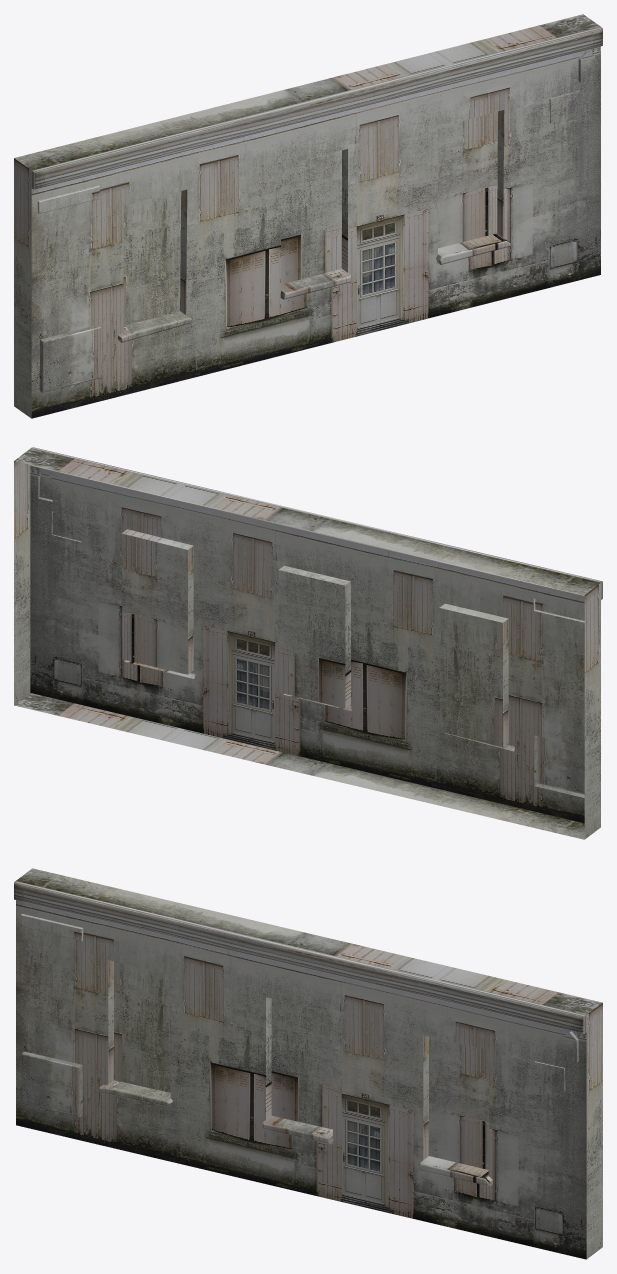
Rendered from simplewhite.obj.
The picture shows the model from 3 angles, top to bottom: view 1: azimuth 30°, elevation 25°; view 2: azimuth 150°, elevation 25°; view 3: azimuth 330°, elevation 25°; orthographic projection.
Visible parts, largest first — view 1: Old_Building_#4.001; view 2: Old_Building_#4.001; view 3: Old_Building_#4.001.
Part boxes in pixels (x1,y1,x2,y2): Old_Building_#4.001: (14,14,602,418); Old_Building_#4.001: (14,447,602,839); Old_Building_#4.001: (14,868,602,1259).
Bounding box in the file's own units: 36.35 × 15 × 2.76.
Materials: 1 (1 with a texture image).
